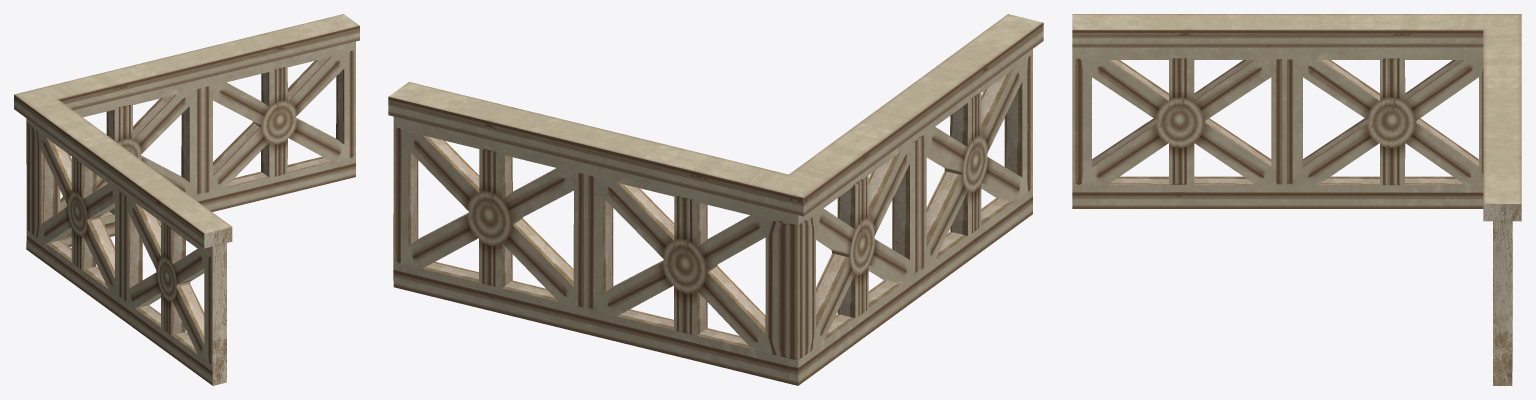
Rendered from svspartarail9.dae.
The picture shows the model from 3 angles, left to right: view 1: azimuth 30°, elevation 25°; view 2: azimuth 150°, elevation 25°; view 3: azimuth 270°, elevation 25°; orthographic projection. The views are drawn at different scales.
Visible parts, largest first — view 1: unnamed_object6_copy49-0; view 2: unnamed_object6_copy49-0; view 3: unnamed_object6_copy49-0.
Part boxes in pixels (bbox=[...]): unnamed_object6_copy49-0: bbox=[14, 14, 359, 385]; unnamed_object6_copy49-0: bbox=[388, 14, 1043, 385]; unnamed_object6_copy49-0: bbox=[1072, 14, 1521, 385].
Bounding box in the file's own units: 235 × 105 × 235.
